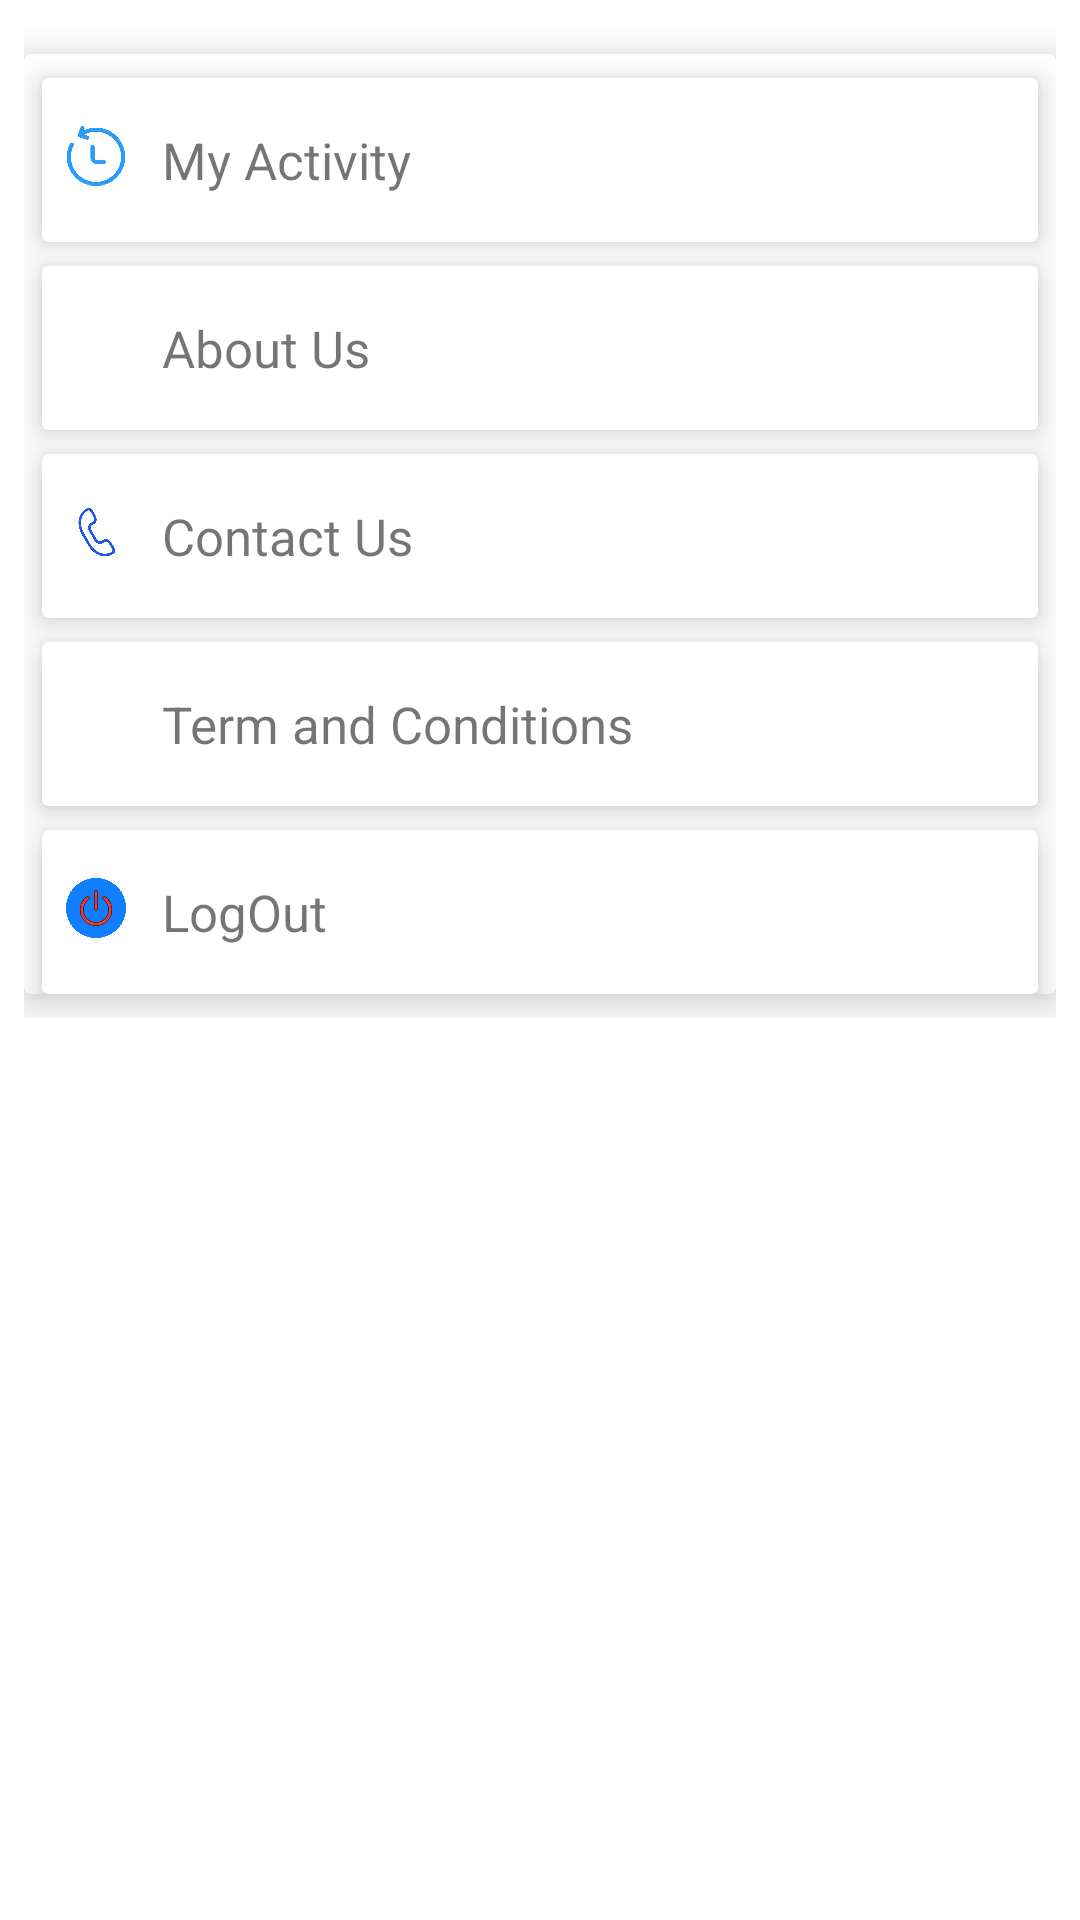

Named icons in this screenshot (1080 × 1920) and their bounding boxes, (x1, y1, x2, y2):
power: (66, 878, 126, 938)
restore: (67, 126, 125, 186)
telephone: (78, 508, 115, 556)
